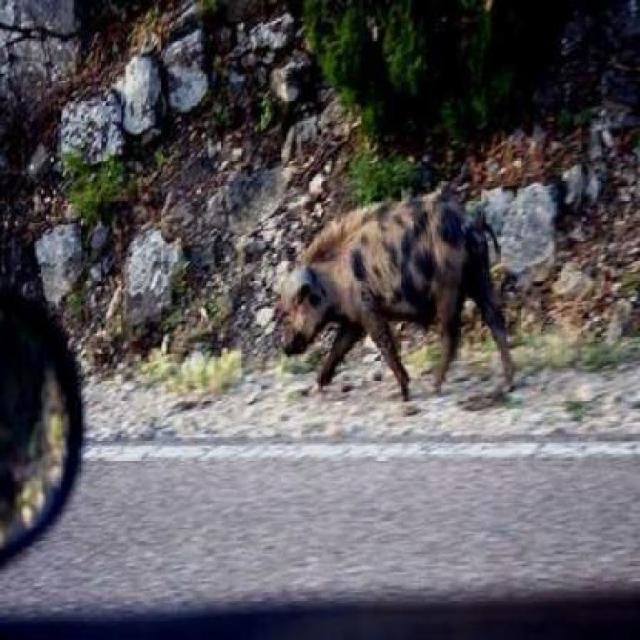Boar: (240, 134, 531, 460)
